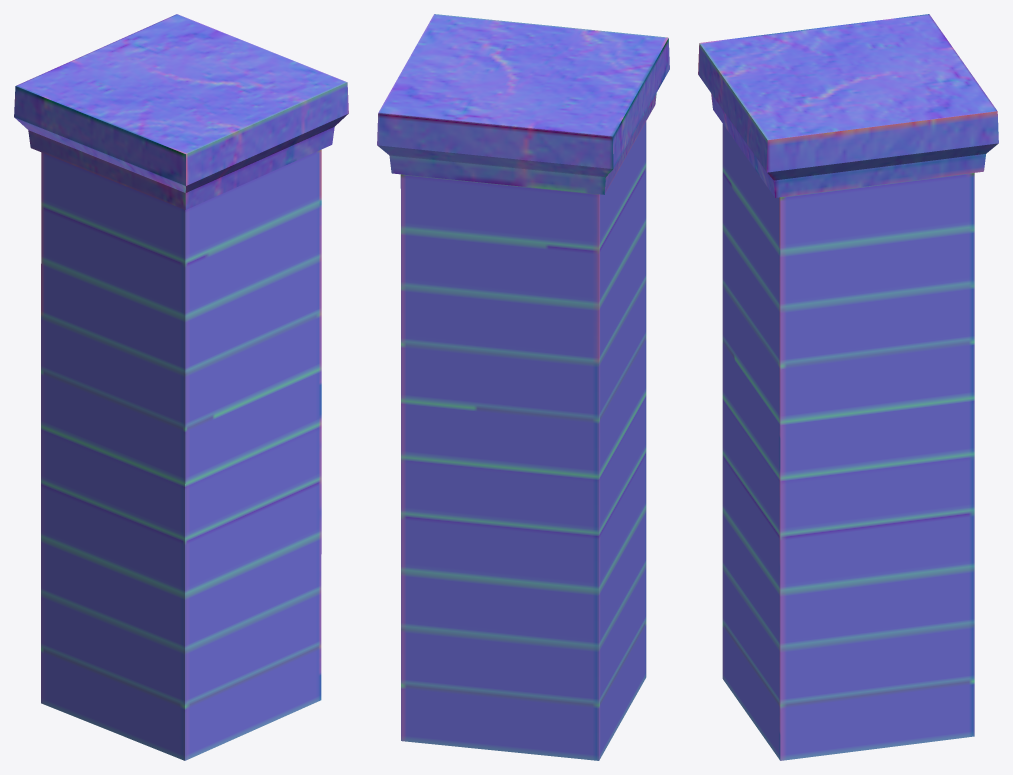
3 views of the same model, side by side, from view 1: azimuth 30°, elevation 25°; view 2: azimuth 150°, elevation 25°; view 3: azimuth 270°, elevation 25° (orthographic). The views are drawn at different scales.
Parts seen in each view (by area): view 1: pillar_low_042; view 2: pillar_low_042; view 3: pillar_low_042.
Part boxes in pixels (left/top/right/bottom): pillar_low_042: left=14, top=14, right=348, bottom=760; pillar_low_042: left=377, top=14, right=669, bottom=760; pillar_low_042: left=698, top=14, right=998, bottom=760.
Size of the model in its own units: 85.45 by 198 by 85.45.
